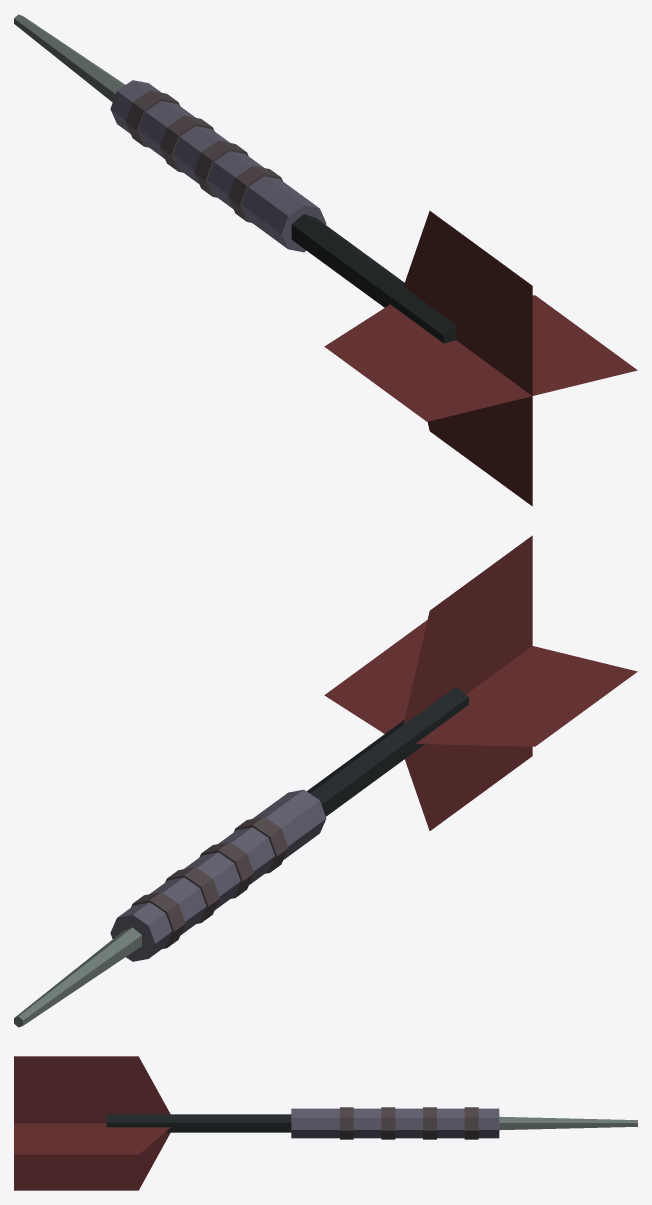
The model's file is sageata_rosie.glb.
3 renders of one model, top to bottom at view 1: azimuth 30°, elevation 25°; view 2: azimuth 150°, elevation 25°; view 3: azimuth 270°, elevation 25°, orthographic. The views are drawn at different scales.
Visible parts, largest first — view 1: Sageata; view 2: Sageata; view 3: Sageata.
Boxes of the visible parts, bbox=[...] form: Sageata: bbox=[14, 14, 637, 506]; Sageata: bbox=[14, 535, 637, 1027]; Sageata: bbox=[14, 1056, 637, 1190].
Size of the model in its own units: 0.032 by 0.032 by 0.135.
